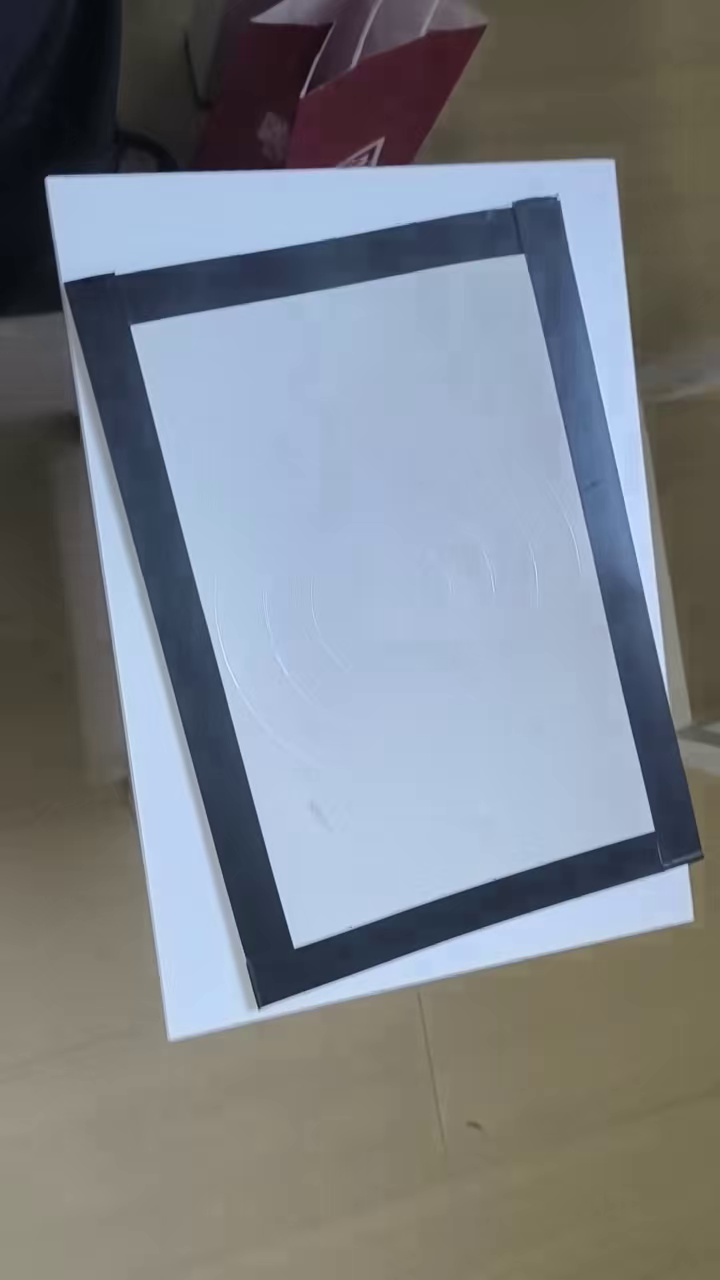board: (65, 200, 706, 1007)
